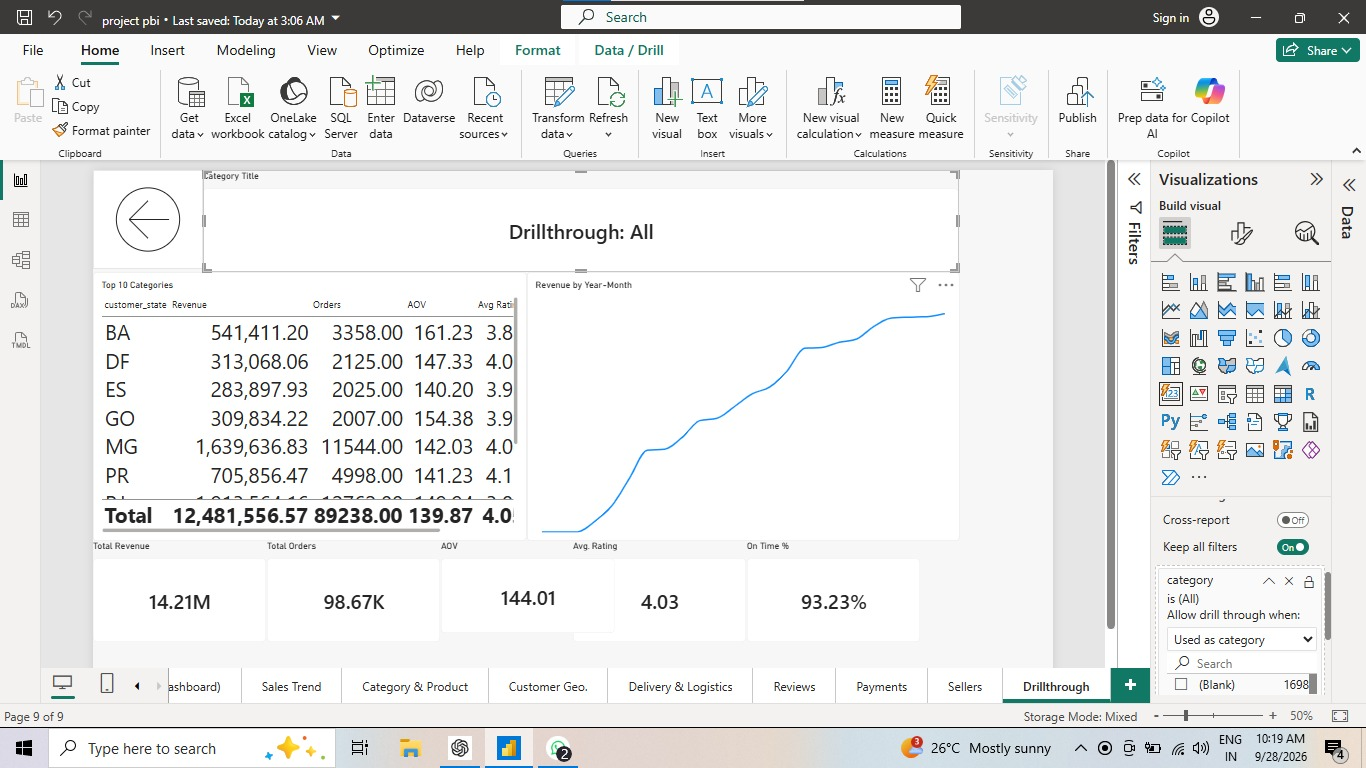

The dashboard page shown, as its layout file describes it:
{"tool":"powerbi","page":{"name":"Drillthrough","canvas":[1920,1080],"ordinal":8},"visuals":[{"type":"tableEx","title":"Top 10 Categories","fields":{"Values":["public bi_fact_sales.customer_state","public bi_fact_sales.Revenue","public bi_fact_sales.Orders","public bi_fact_sales.AOV","public bi_fact_sales.Avg Rating","public bi_fact_sales.On-time %"]},"box":[0,204.1,867.4,537.9],"z":0},{"type":"lineChart","title":"Revenue by Year-Month","fields":{"Category":["DimDate.Year-Month"],"Y":["public bi_fact_sales.Revenue"]},"box":[867.4,204.1,865.3,537.9],"z":1},{"type":"cardVisual","title":"Total Revenue","fields":{"Data":["public bi_fact_sales.Revenue"]},"box":[0,740.8,346.5,204.1],"z":2},{"type":"cardVisual","title":"Total Orders","fields":{"Data":["public bi_fact_sales.Orders"]},"box":[347.7,740.8,346.5,204.1],"z":3},{"type":"cardVisual","title":"Avg. Rating","fields":{"Data":["public bi_fact_sales.Avg Rating"]},"box":[960,740.8,346.5,204.1],"z":4},{"type":"cardVisual","title":"AOV","fields":{"Data":["public bi_fact_sales.AOV"]},"box":[695.4,740.8,347.7,186.5],"z":5},{"type":"cardVisual","title":"On Time %","fields":{"Data":["public bi_fact_sales.On-time %"]},"box":[1307.7,740.8,346.5,204.1],"z":6},{"type":"actionButton","box":[0,0,219.2,197],"z":7},{"type":"cardVisual","title":"Category Title","fields":{"Data":["public bi_fact_sales.Drill Title"]},"box":[219.2,0,1511.8,204.1],"z":8}]}

Visuals, with their boxes on the page's 1920x1080 design canvas (x1, y1, x2, y2). These are canvas units, not pixel positions in the 1366x768 screenshot, which may show the page scaled, cropped or inside an application window:
"Top 10 Categories" tableEx: {"left": 0, "top": 204, "right": 867, "bottom": 742}
"Revenue by Year-Month" lineChart: {"left": 867, "top": 204, "right": 1733, "bottom": 742}
"Total Revenue" cardVisual: {"left": 0, "top": 741, "right": 346, "bottom": 945}
"Total Orders" cardVisual: {"left": 348, "top": 741, "right": 694, "bottom": 945}
"Avg. Rating" cardVisual: {"left": 960, "top": 741, "right": 1306, "bottom": 945}
"AOV" cardVisual: {"left": 695, "top": 741, "right": 1043, "bottom": 927}
"On Time %" cardVisual: {"left": 1308, "top": 741, "right": 1654, "bottom": 945}
actionButton: {"left": 0, "top": 0, "right": 219, "bottom": 197}
"Category Title" cardVisual: {"left": 219, "top": 0, "right": 1731, "bottom": 204}
